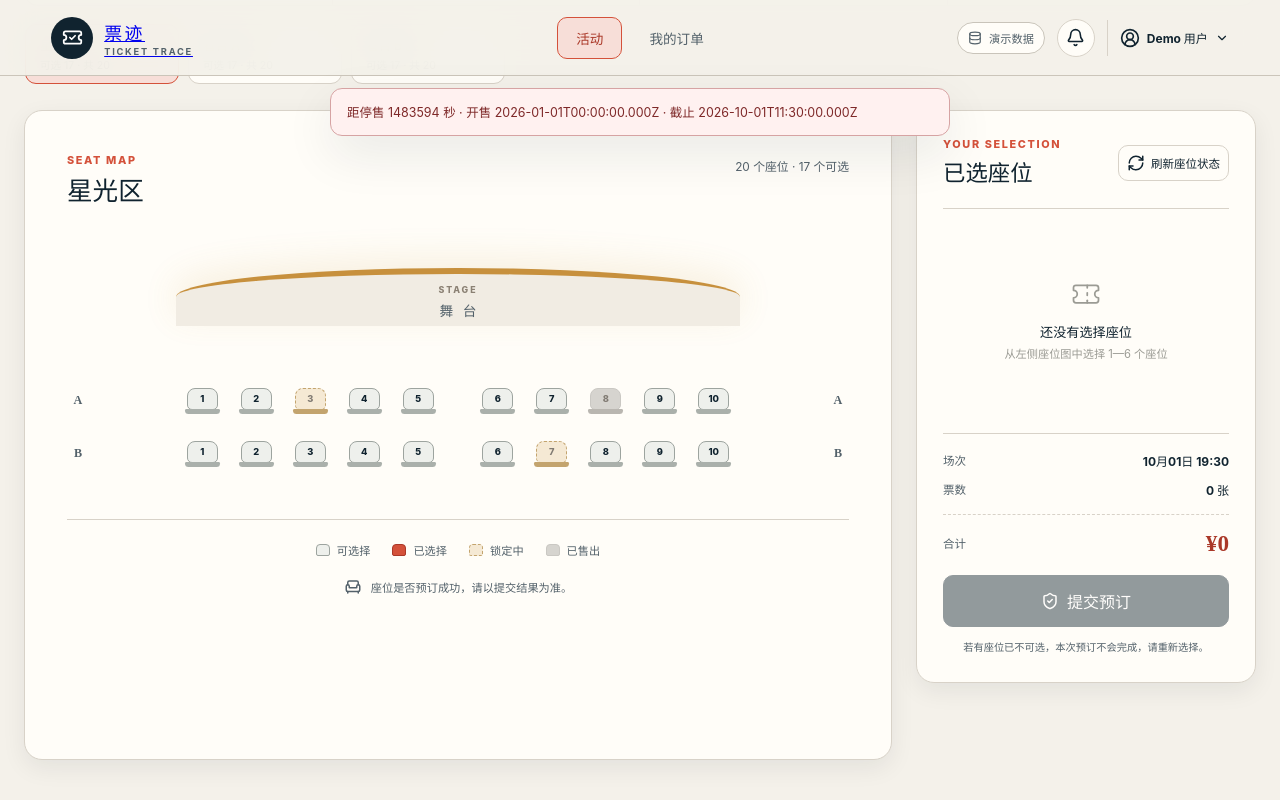
it: Phase 9 application shell and routes › refreshes exactly once after first checkout conflict (refresh fails: true)
(page scrolled)
Click the button named "A01，可选，¥1,280" at (202, 401), box [183,384,222,418]
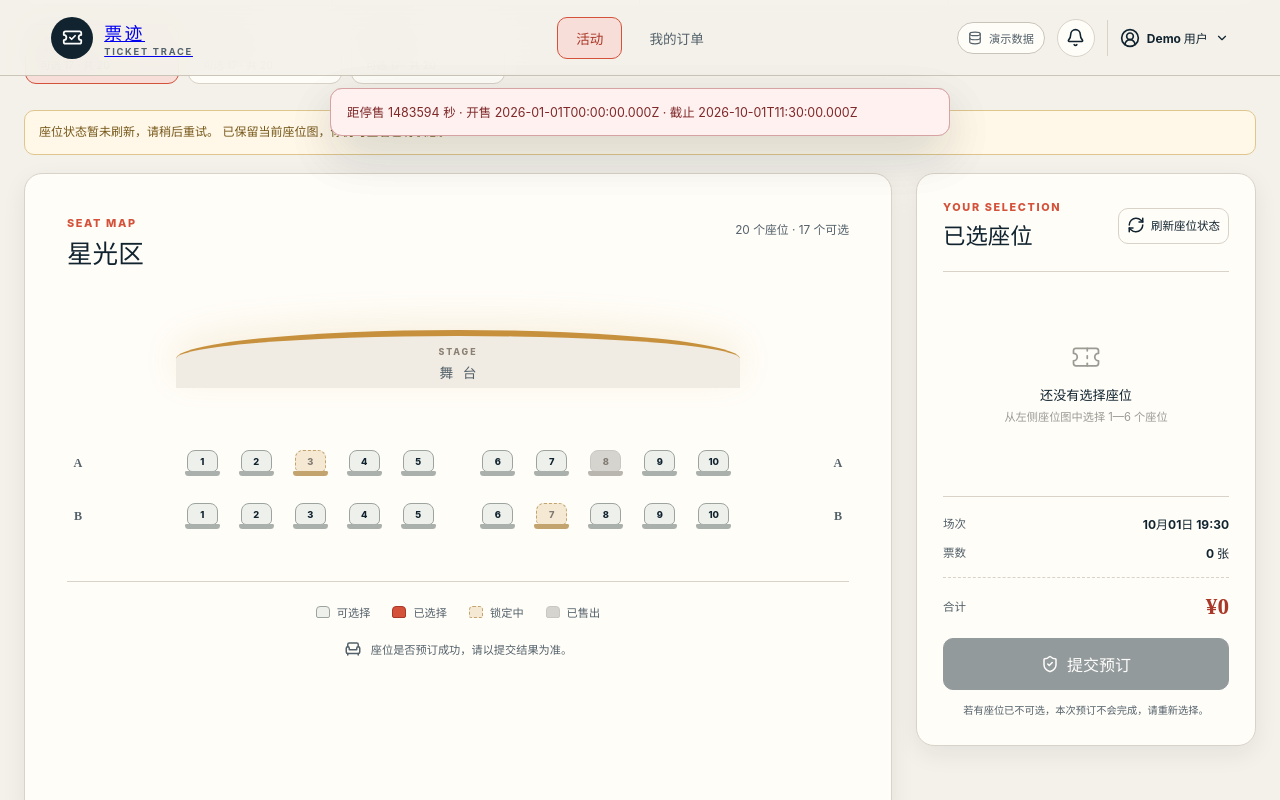
Expected: the button named "A01，可选，¥1,280" is shown, [183,446,222,480]
Result: the message with class "availability-warning" shows "已保留当前座位图" at [39,124,450,139]
Result: the message "所选座位刚被其他用户临时锁定，最新座位状态暂未取得，请点击“刷新座位状态”后重试。" is shown at [330,88,950,136]
